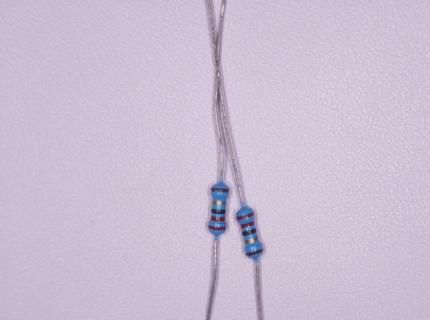Black band: (242, 228, 256, 236), (211, 209, 226, 214)
Brown band: (246, 248, 263, 256), (211, 188, 229, 193)
Gold band: (245, 236, 258, 244), (212, 201, 226, 205)
Red band: (237, 212, 254, 220), (241, 221, 255, 228), (208, 225, 226, 230), (211, 217, 225, 221)
